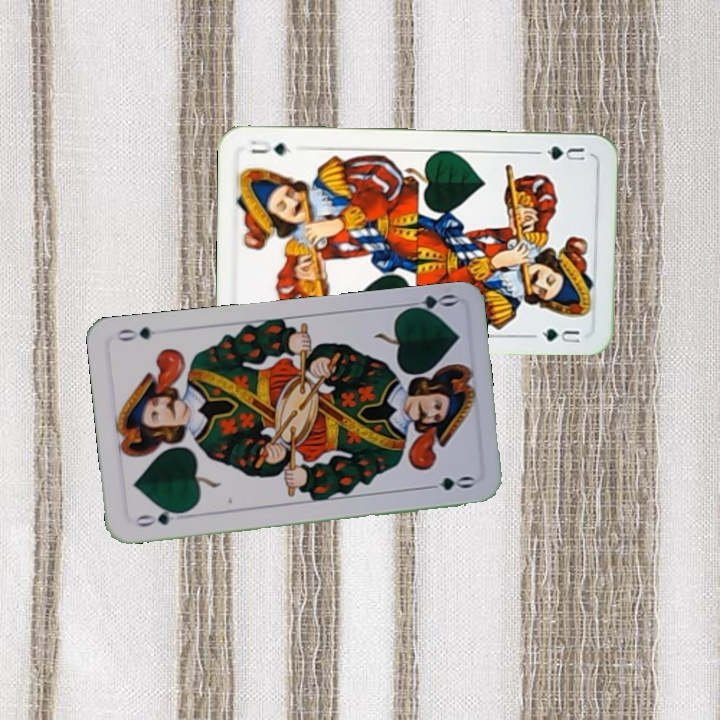GO: (399, 290, 458, 318), (129, 505, 188, 530)
GU: (532, 142, 587, 162)
